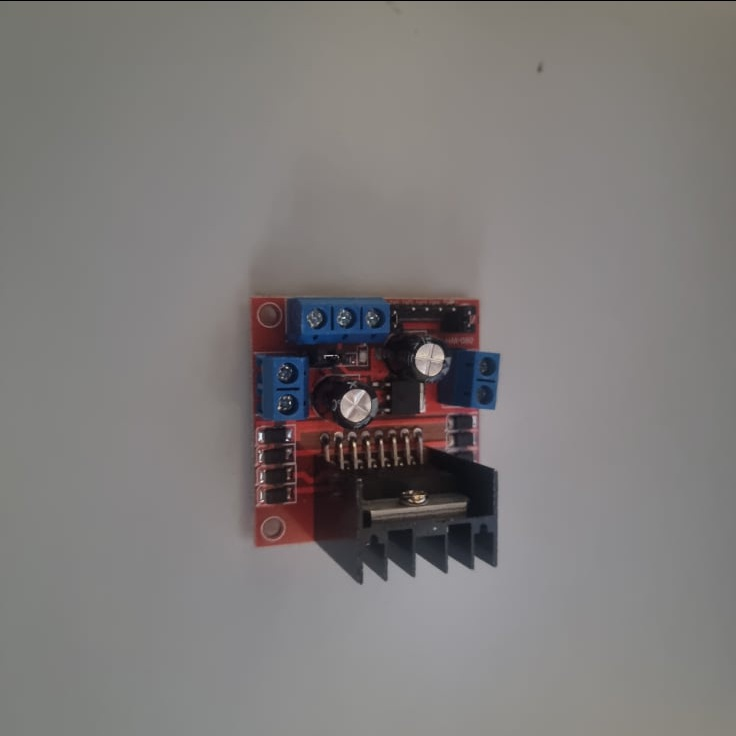MOTOR: (245, 292, 499, 586)
